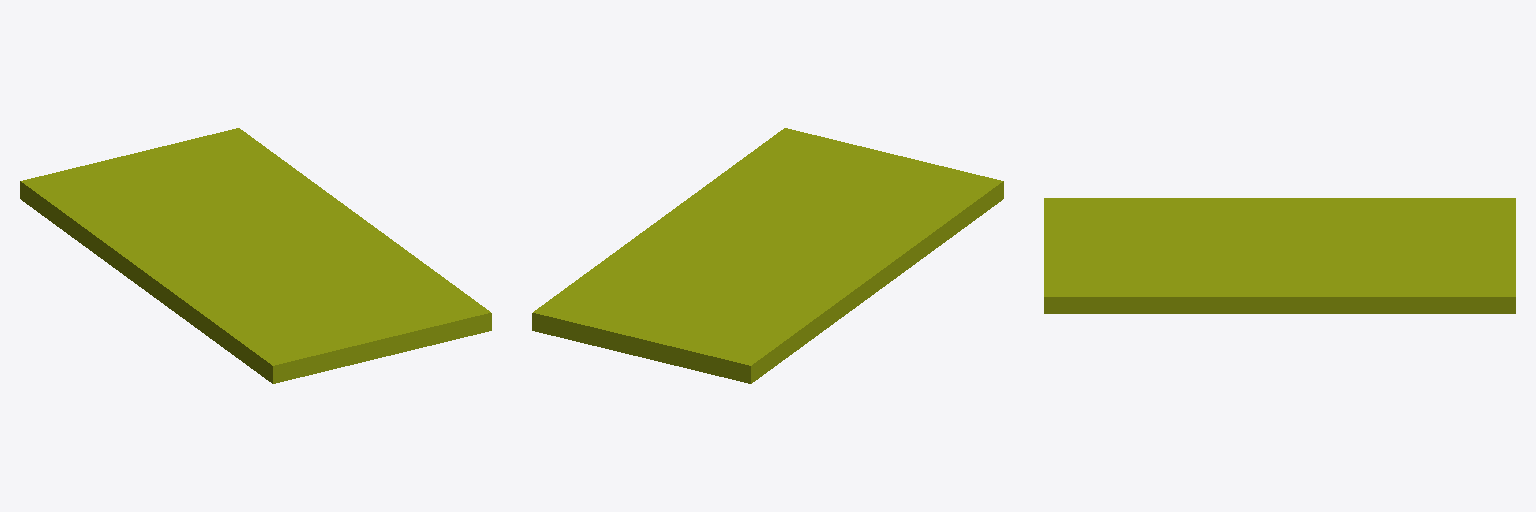
The robot description file, URDF, robot "table":
<?xml version="1.0" ?>
<robot name="table">
  <link name="base_link" />

    <link name="ground">
    <visual>
      <geometry>
        <mesh filename="package://mc_env_description/meshes/table/ground.stl" />
      </geometry>
      <material name="default">
        <color rgba="1.0 1.0 1.0 1" />
      </material>
    </visual>

  </link>
  <joint name="ground" type="fixed">
    <parent link="base_link" />
    <child link="ground" />
    <origin rpy="0.0 0.0 0.0" xyz="0.0 0.0 -0.03803446888923645" />
  </joint>

  <link name="table">
    <visual>
      <geometry>
        <mesh filename="package://mc_env_description/meshes/table/table.stl" />
      </geometry>
      <material name="Shape.003">
        <color rgba="0.6200000047683716 0.6700000166893005 0.10999999940395355 1" />
      </material>
    </visual>

  </link>
  <joint name="table" type="fixed">
    <parent link="base_link" />
    <child link="table" />
    <origin rpy="-1.1920923270736239e-07 1.30336559323041e-06 12.566370964050293" xyz="5.618053696620642e-36 0.0 0.0" />
  </joint>

</robot>

--- What the picture shows (computed from the rendered views, not written in the file) ---
The picture shows the robot from 3 angles, left to right: view 1: azimuth 30°, elevation 25°; view 2: azimuth 150°, elevation 25°; view 3: azimuth 270°, elevation 25°; orthographic projection.
Robot: table — 3 links, 2 joints (2 fixed); root link base_link; default pose: all joints at 0.
Visible links, largest first — view 1: table; view 2: table; view 3: table.
Link boxes in pixels (left/top/right/bottom): table: left=20, top=128, right=491, bottom=383; table: left=532, top=128, right=1003, bottom=383; table: left=1044, top=198, right=1515, bottom=313.
Size in the robot's own frame: 1 by 2 by 0.08 metres.
Meshes: 2 distinct files referenced, 1 mesh visuals loaded (1 binary STL); not drawn: 1 (reference not matched to a file when rendering).